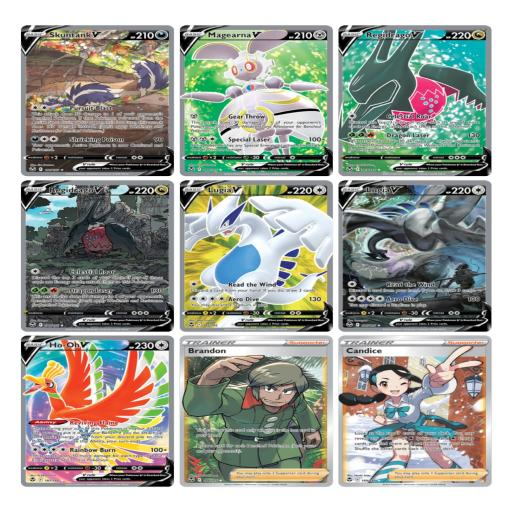card: (338, 180, 492, 332), (179, 335, 333, 487), (21, 180, 174, 332), (180, 180, 333, 332), (338, 335, 491, 487), (179, 25, 333, 176), (21, 25, 174, 176), (338, 25, 491, 176), (21, 335, 174, 486)
